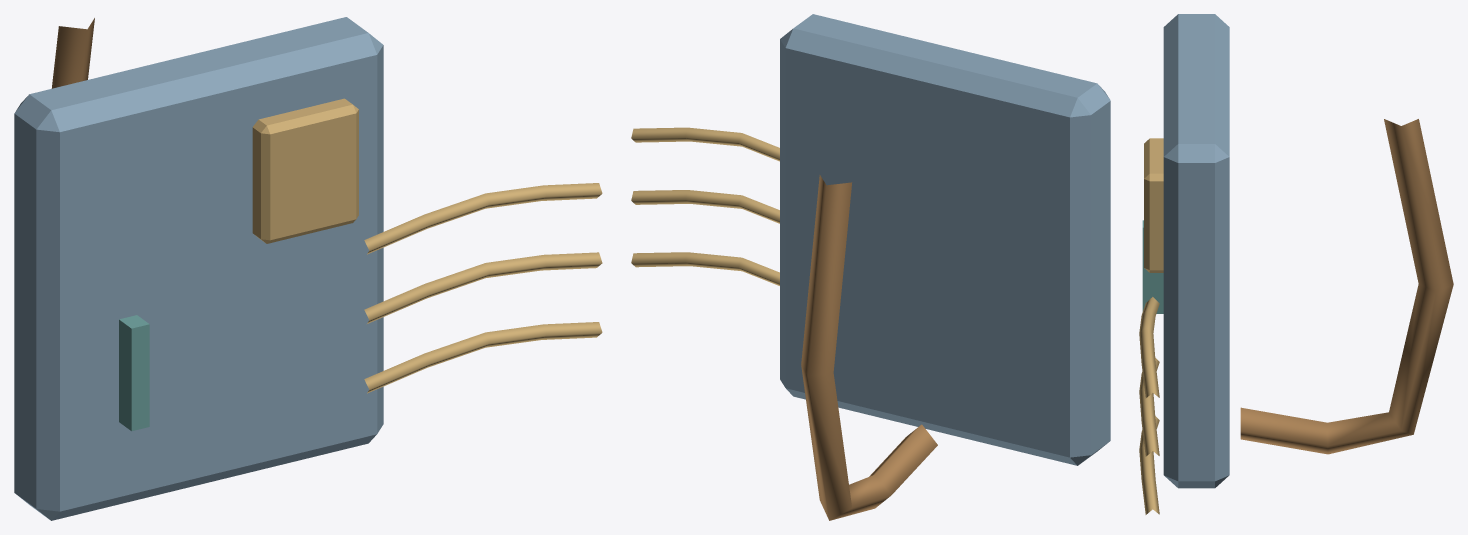
The model's file is object_cleaner.glb.
3 renders of one model, left to right at view 1: azimuth 30°, elevation 25°; view 2: azimuth 150°, elevation 25°; view 3: azimuth 270°, elevation 25°, orthographic. The views are drawn at different scales.
Visible parts, largest first — view 1: object_cleaner; view 2: object_cleaner; view 3: object_cleaner.
Part boxes in pixels (box(x1,y1,x2,y2)): object_cleaner: box(14, 17, 602, 520); object_cleaner: box(631, 14, 1110, 520); object_cleaner: box(1139, 14, 1453, 514).
Bounding box in the file's own units: 0.3628 × 0.2834 × 0.215.
